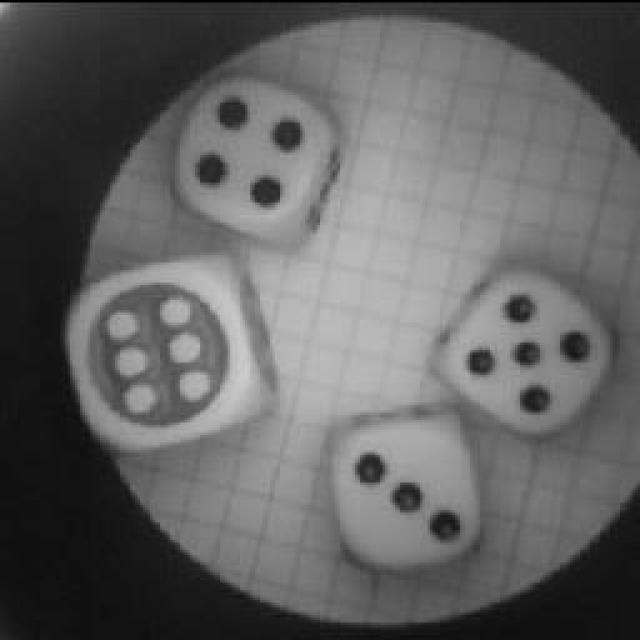dice_3: (315, 405, 487, 580)
dice_4: (168, 67, 338, 235)
dice_5: (428, 260, 622, 435)
dice_6: (55, 247, 263, 455)
